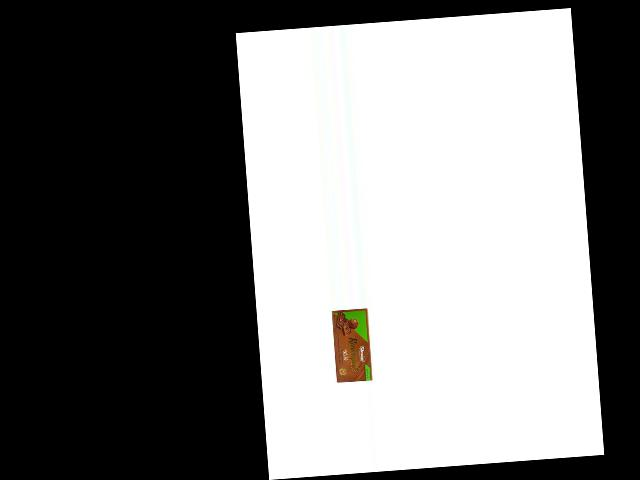chocolate: (330, 307, 375, 385)
